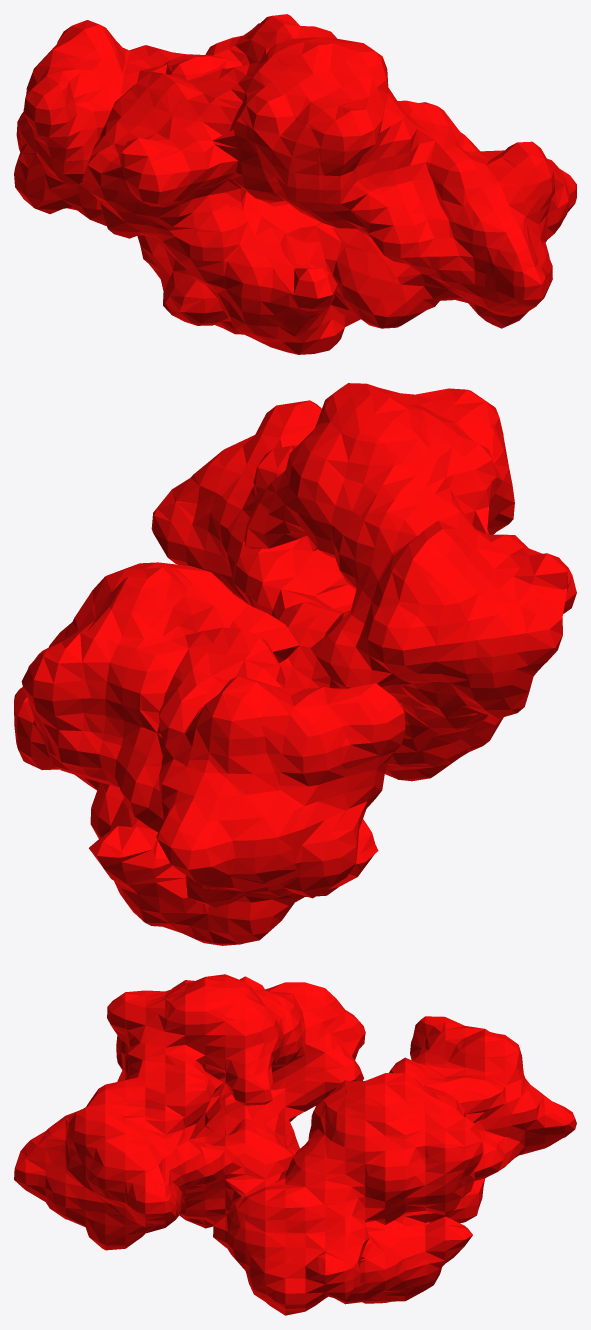
File: metN_coarse.dae
The picture shows the model from 3 angles, top to bottom: view 1: azimuth 30°, elevation 25°; view 2: azimuth 150°, elevation 25°; view 3: azimuth 270°, elevation 25°; orthographic projection. The views are drawn at different scales.
Parts seen in each view (by area): view 1: metN; view 2: metN; view 3: metN.
Part boxes in pixels (box(x1,y1,x2,y2)): metN: box(14, 14, 576, 354); metN: box(14, 383, 576, 945); metN: box(14, 974, 576, 1315).
Size of the model in its own units: 126 by 106 by 178.
